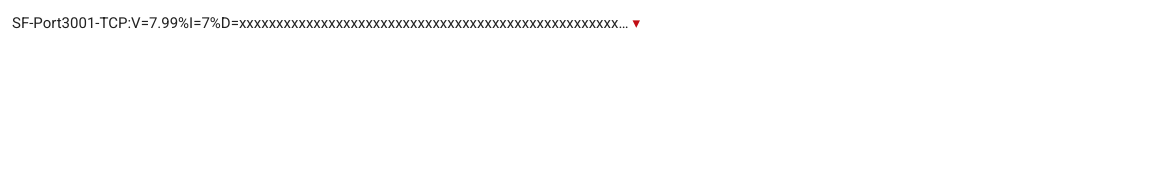
Test: CollapsibleText › collapses long text and toggles it on click
Click the button with aria-label "Banner: show all". click: x=588, y=23
box: [12,12,1164,34]
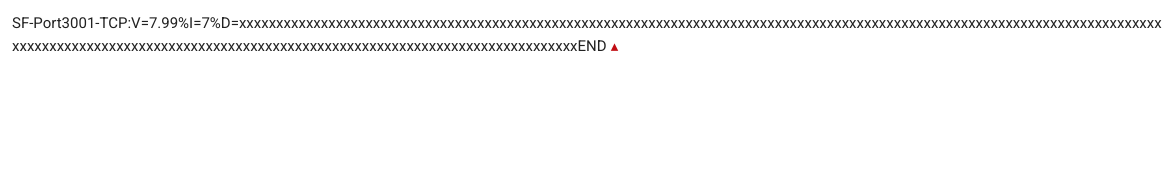
Check: the button named "Banner: show all" is expanded
Click the button named "Banner: show all". click: x=588, y=34
box: [12,12,1164,57]
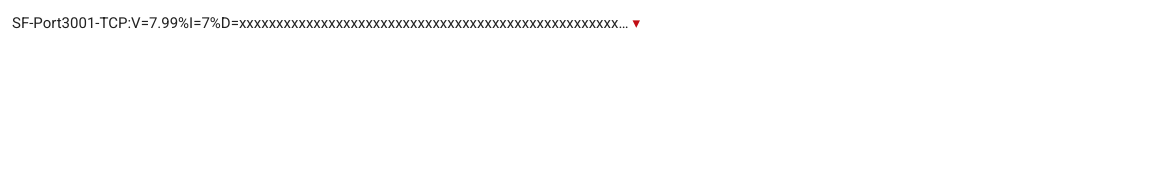
Check: the button with aria-label "Banner: show all" is collapsed, box [12,12,1164,34]
Check: the button "Banner: show all" no longer shows "END"
